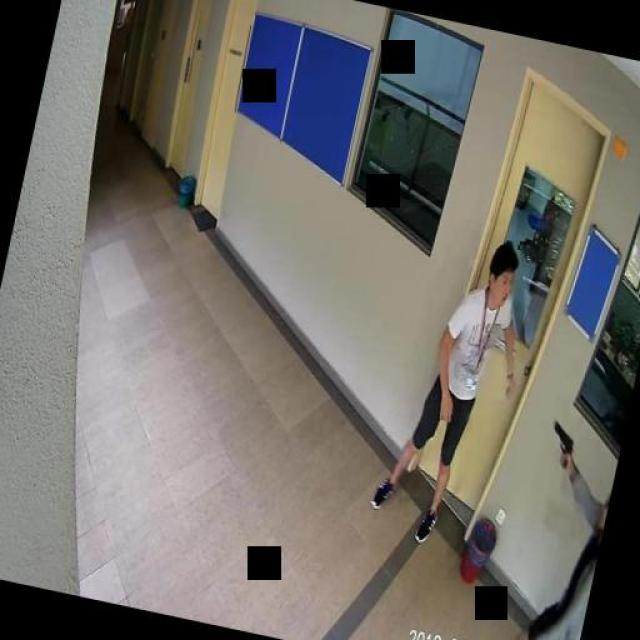gun: (545, 418, 576, 467)
